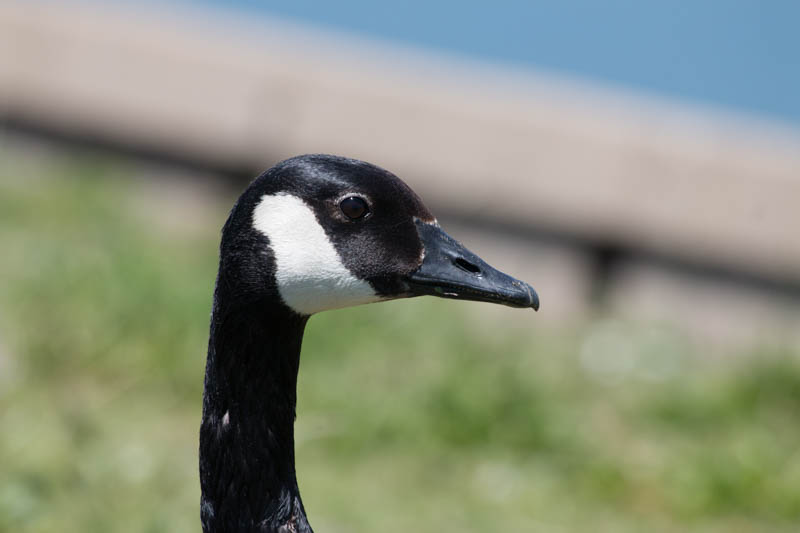goose-head: (213, 155, 538, 318)
